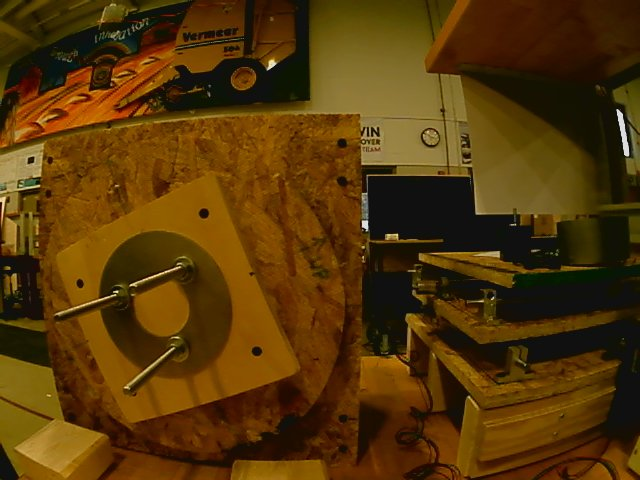bolt: (172, 254, 197, 287), (164, 335, 191, 365), (108, 283, 133, 314)
